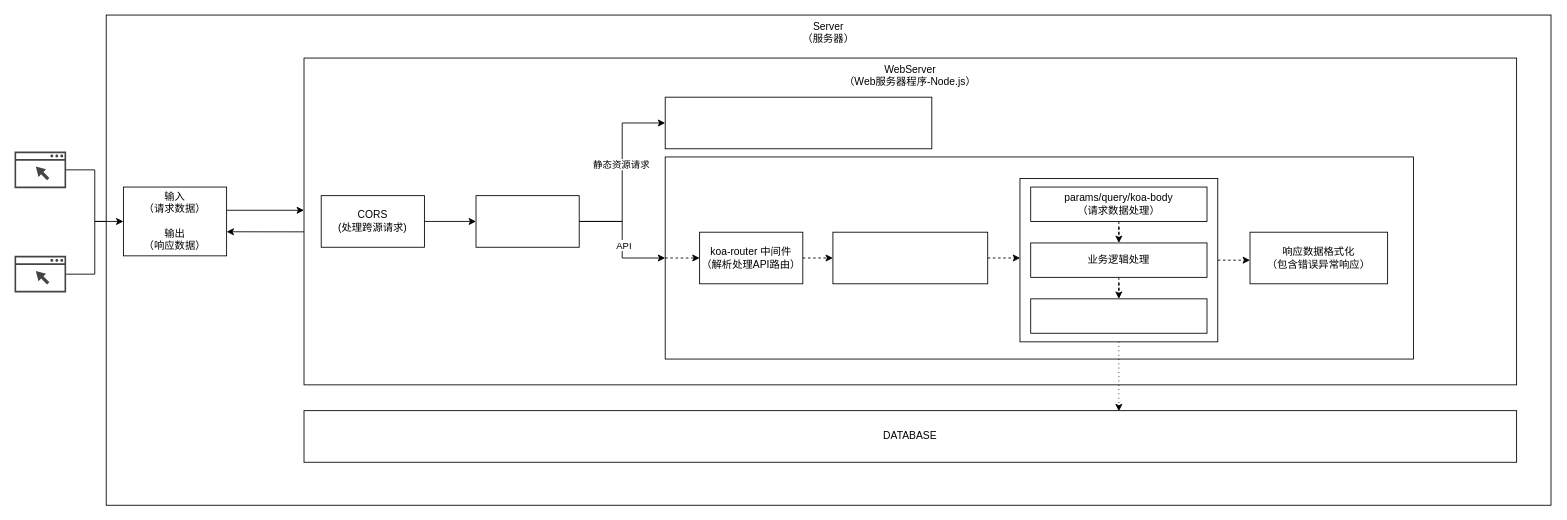
Image size: 1567x520. Some labels were removed from this diagram. The centre of each missing label's shape, as x and y in pixels:
"@koa/cors 中间件 (处理跨源请求)" goes at (527,221).
"jsonwebtoken & 自定义中间件 （用户身份校验）" goes at (910,257).
"koa-static-cache 中间件 (处理静态资源：html、css、js、image……)" goes at (798,122).
"响应数据处理 （可源于外部存储媒介：如MySQL）" goes at (1118,315).
